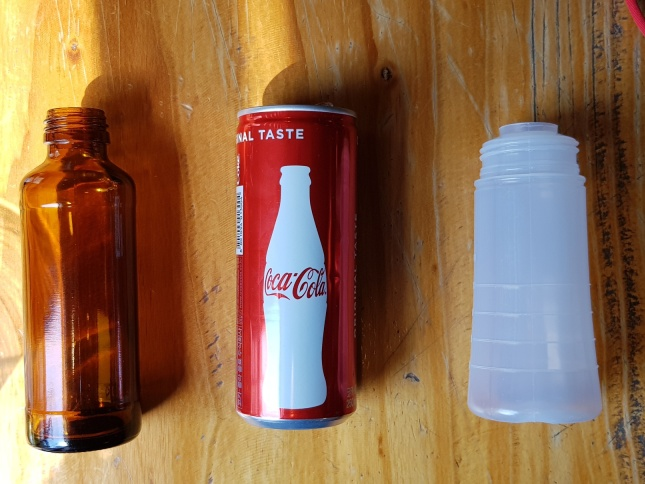Can: (228, 104, 362, 434)
Glass: (12, 102, 146, 456)
Plastic: (462, 118, 605, 427)
